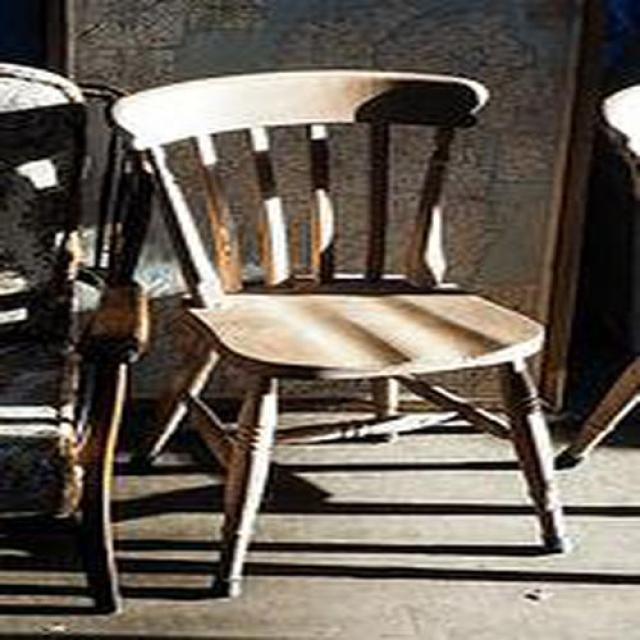chair: (111, 69, 562, 600)
